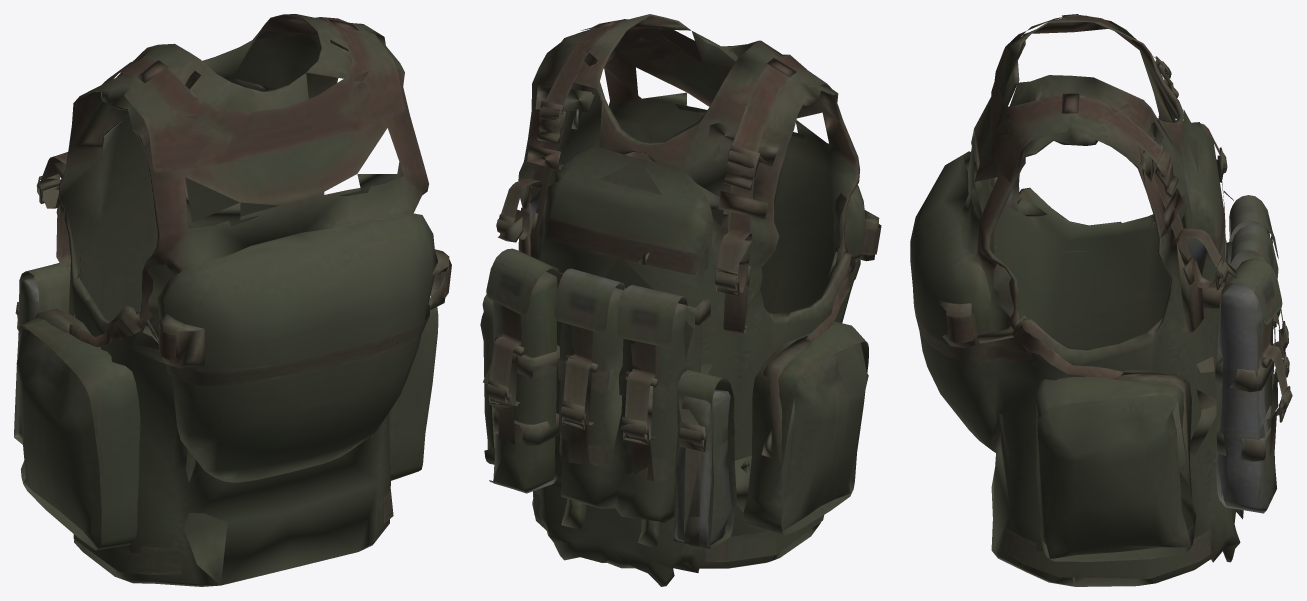
File: office-gear-chest-rig.glb
3 views of the same model, side by side, from view 1: azimuth 30°, elevation 25°; view 2: azimuth 150°, elevation 25°; view 3: azimuth 270°, elevation 25° (orthographic). The views are drawn at different scales.
Visible parts, largest first — view 1: gear-chest-rig; view 2: gear-chest-rig; view 3: gear-chest-rig.
Boxes of the visible parts, x1,y1,x2,y2 form: gear-chest-rig: (14,14,451,586); gear-chest-rig: (480,14,881,586); gear-chest-rig: (910,14,1292,586).
Size of the model in its own units: 0.4149 by 0.55 by 0.3889.
1 material, 1 textured.
